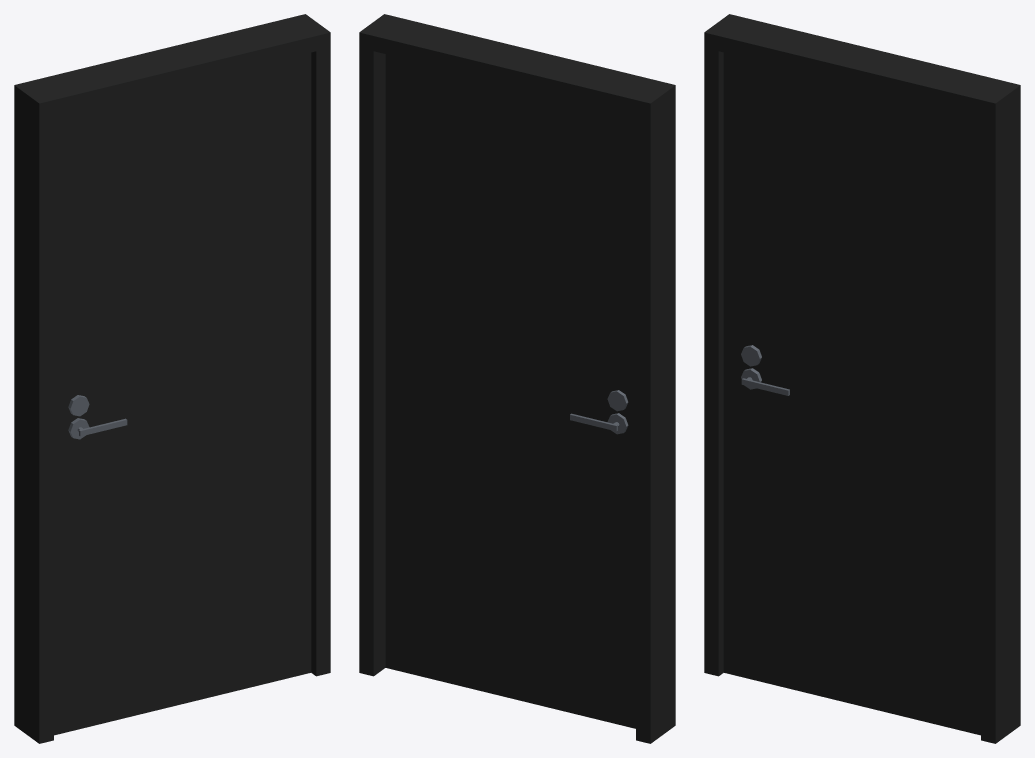
The model's file is Building_Main_Door.glb.
The picture shows the model from 3 angles, left to right: view 1: azimuth 30°, elevation 25°; view 2: azimuth 150°, elevation 25°; view 3: azimuth 330°, elevation 25°; orthographic projection.
Parts seen in each view (by area): view 1: Building_Main_Door; view 2: Building_Main_Door; view 3: Building_Main_Door.
Boxes of the visible parts, x1,y1,x2,y2 form: Building_Main_Door: (14, 14, 330, 743); Building_Main_Door: (359, 14, 675, 743); Building_Main_Door: (704, 14, 1020, 743).
Size of the model in its own units: 1 by 2.1 by 0.1602.
1 material, 1 textured.
